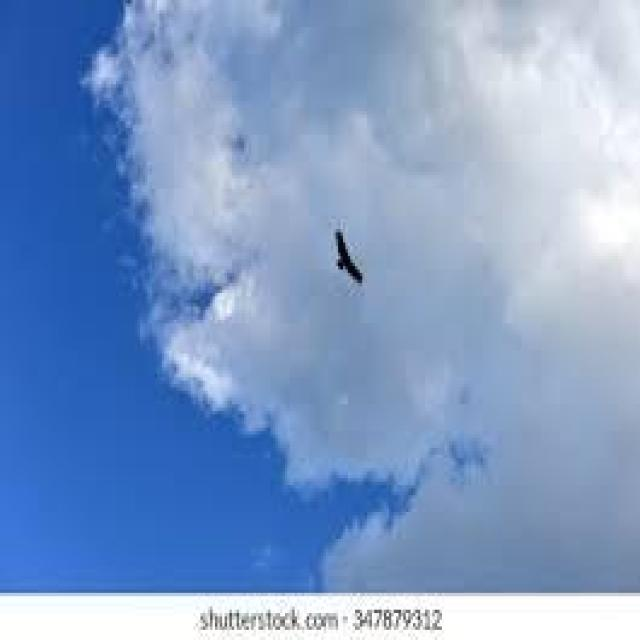bird: (332, 224, 368, 288)
